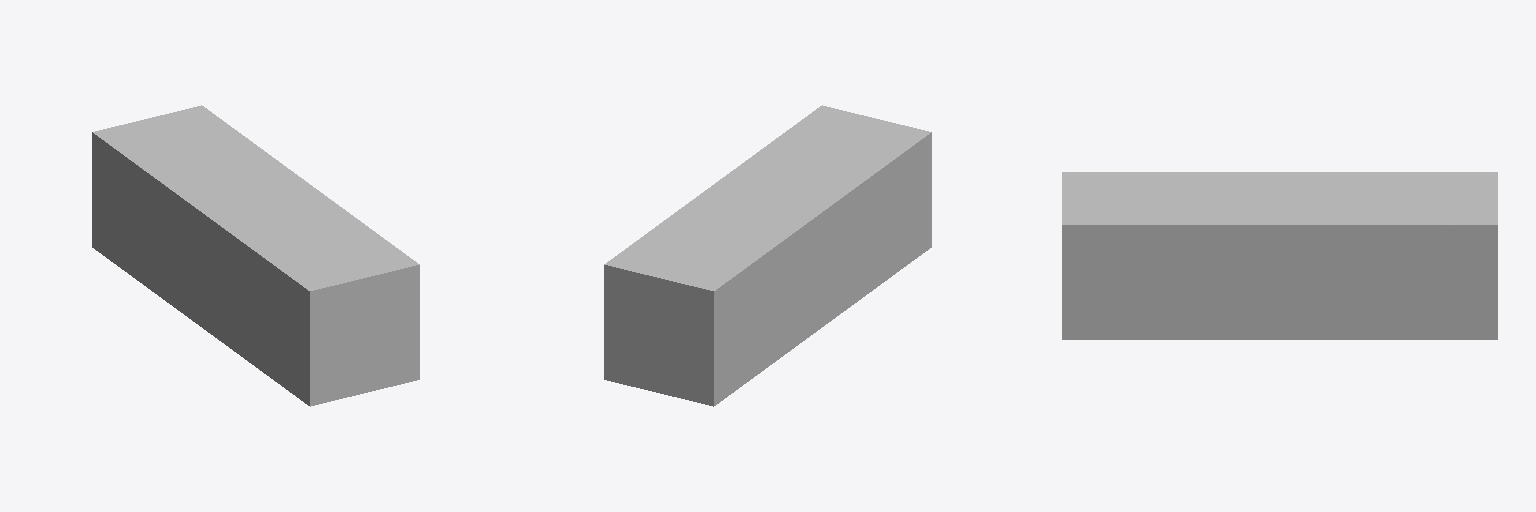
The model's file is beam.obj.
3 renders of one model, left to right at view 1: azimuth 30°, elevation 25°; view 2: azimuth 150°, elevation 25°; view 3: azimuth 270°, elevation 25°, orthographic.
Visible parts, largest first — view 1: beam; view 2: beam; view 3: beam.
Boxes of the visible parts, <box> form: beam: <box>92,105,419,406</box>; beam: <box>604,105,931,406</box>; beam: <box>1062,172,1497,339</box>.
Size of the model in its own units: 1.2 by 1.2 by 4.11.